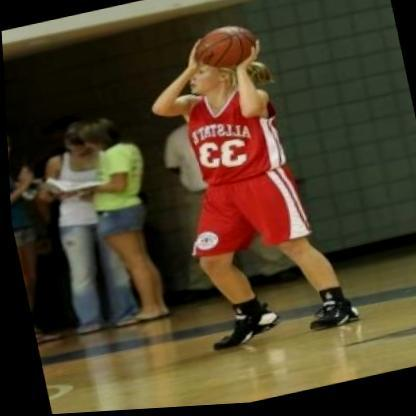basketball: (188, 23, 256, 80)
